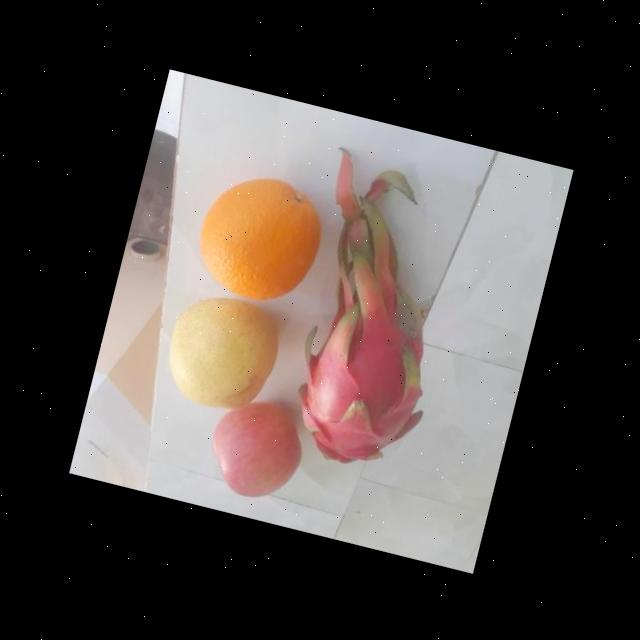apple: (200, 392, 314, 506)
orange: (186, 164, 334, 311)
pear: (146, 284, 292, 420)
pitaya: (284, 292, 451, 479)
